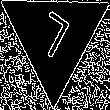L_SW: (31, 7, 78, 67)
